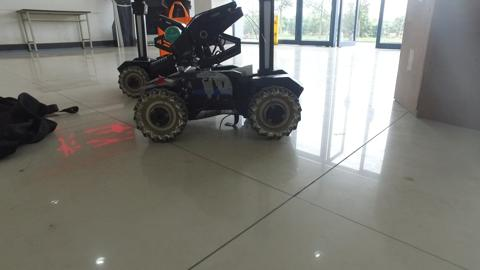chariot: (133, 1, 310, 138)
